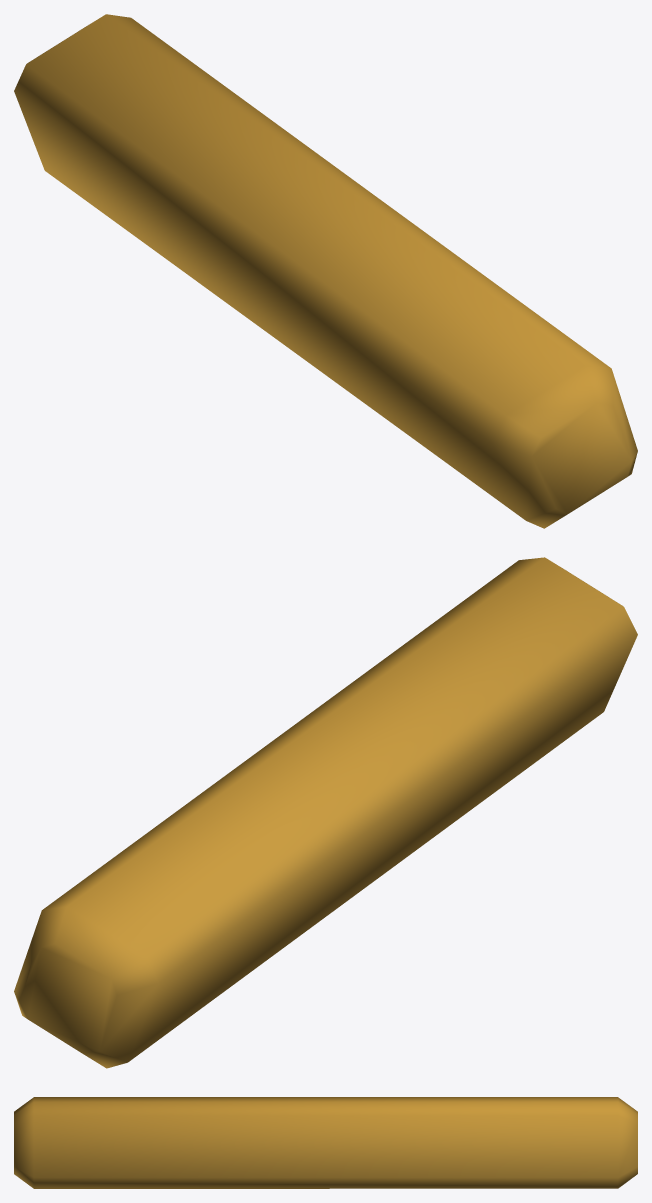
File: fry_ordinary.glb
3 views of the same model, one above another, from view 1: azimuth 30°, elevation 25°; view 2: azimuth 150°, elevation 25°; view 3: azimuth 270°, elevation 25° (orthographic). The views are drawn at different scales.
Parts seen in each view (by area): view 1: Sticks; view 2: Sticks; view 3: Sticks.
Boxes of the visible parts, x1,y1,x2,y2 form: Sticks: (14, 14, 637, 528); Sticks: (14, 557, 637, 1068); Sticks: (14, 1097, 637, 1188).
Size of the model in its own units: 0.1191 by 0.1188 by 0.72.
